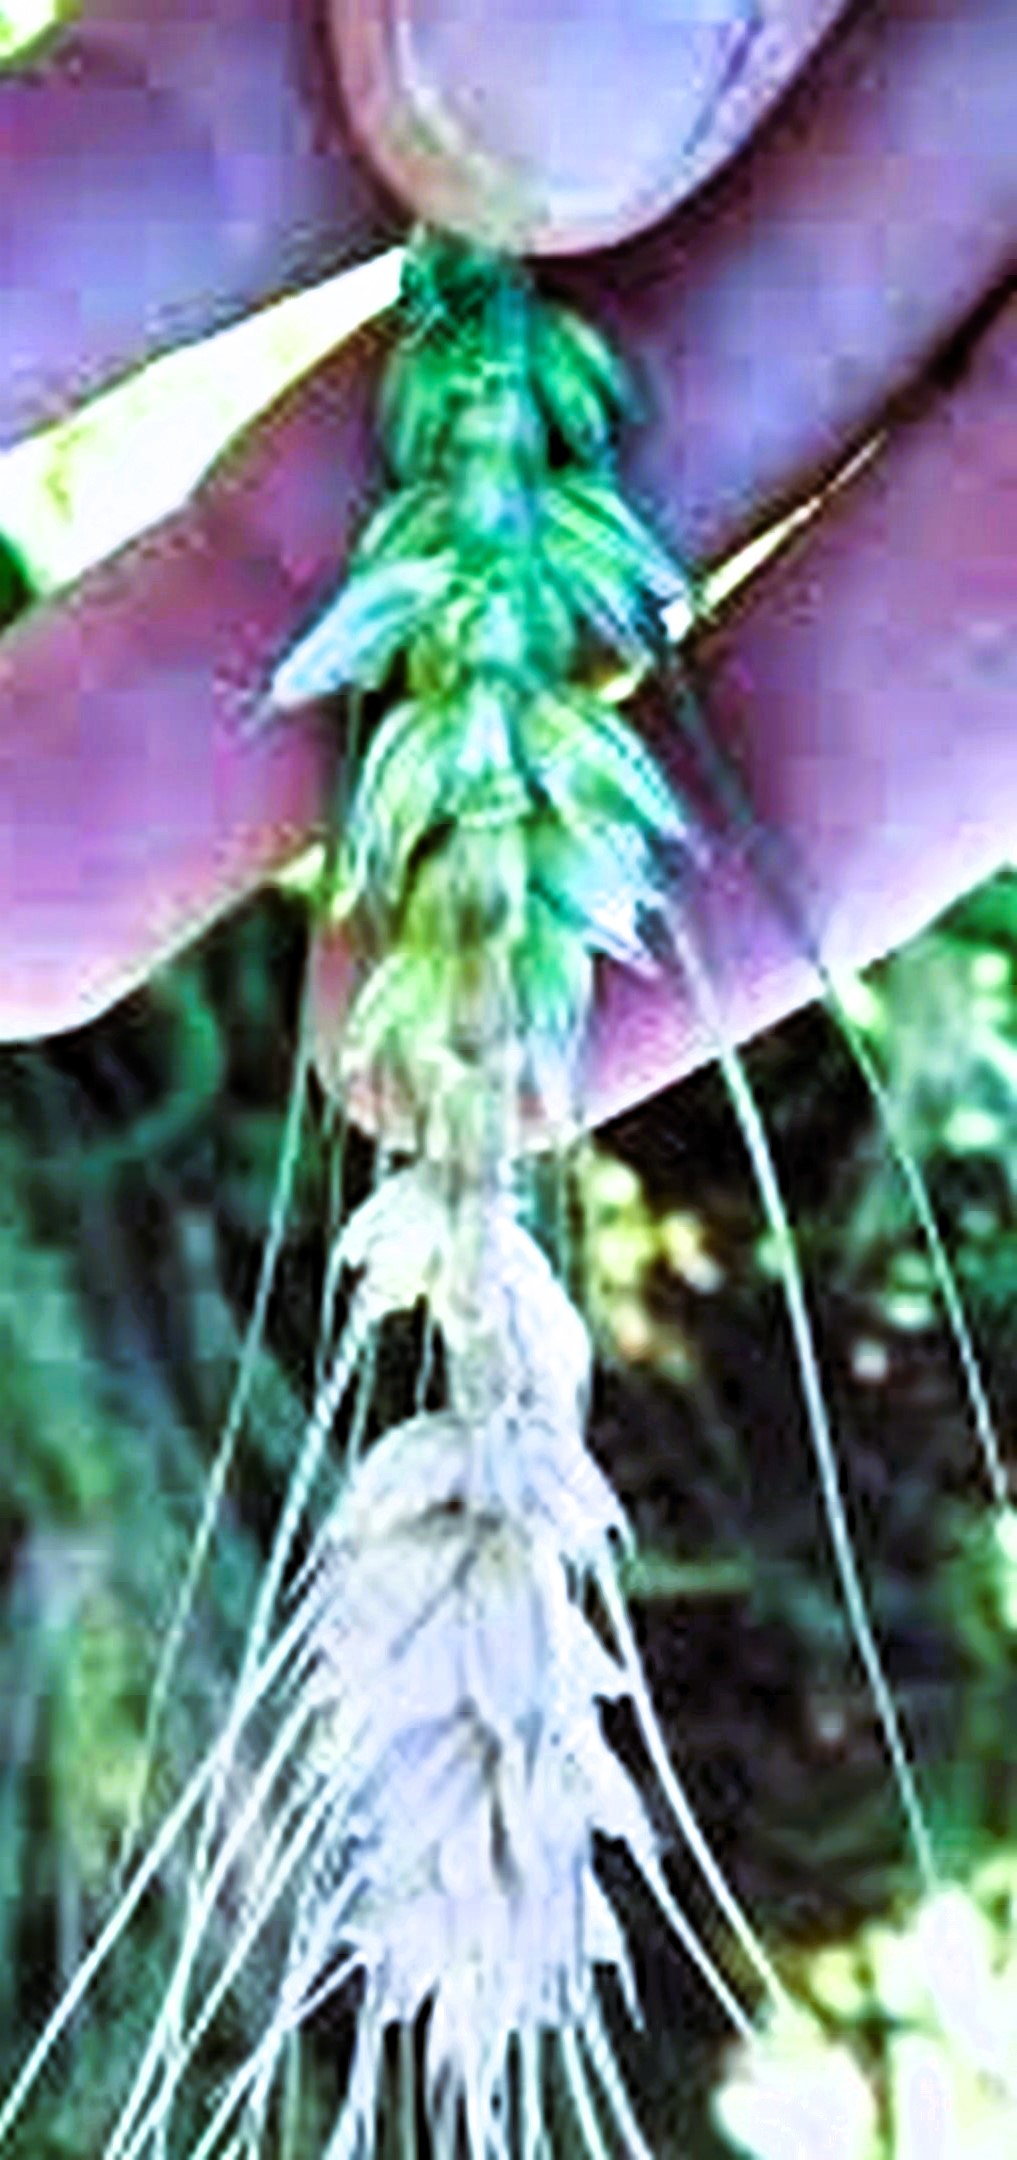Wheat scab: (270, 258, 780, 2099)
